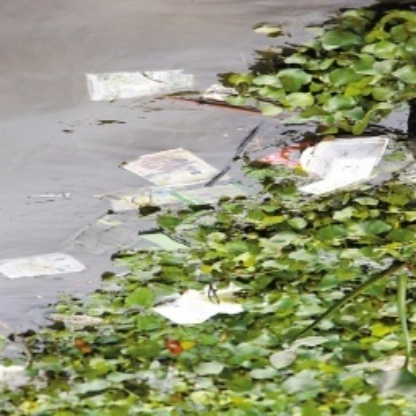plastic-bag: (85, 66, 200, 103)
plastic-garbage: (297, 138, 393, 196)
